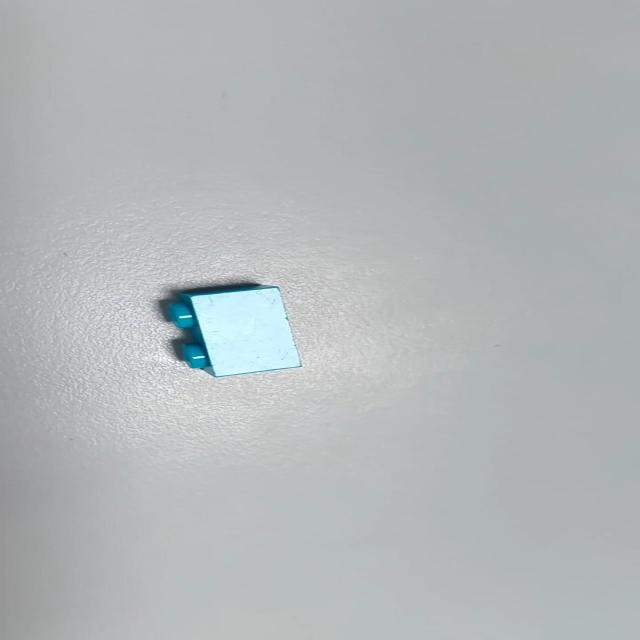C2x1x1: (166, 282, 302, 378)
